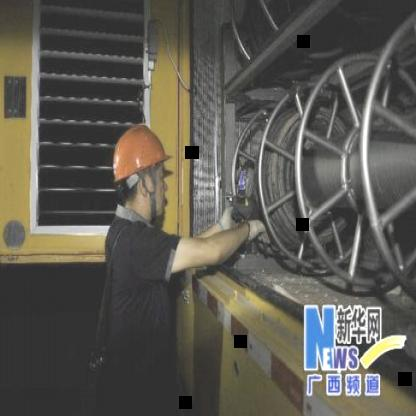helmet: (110, 116, 172, 218)
